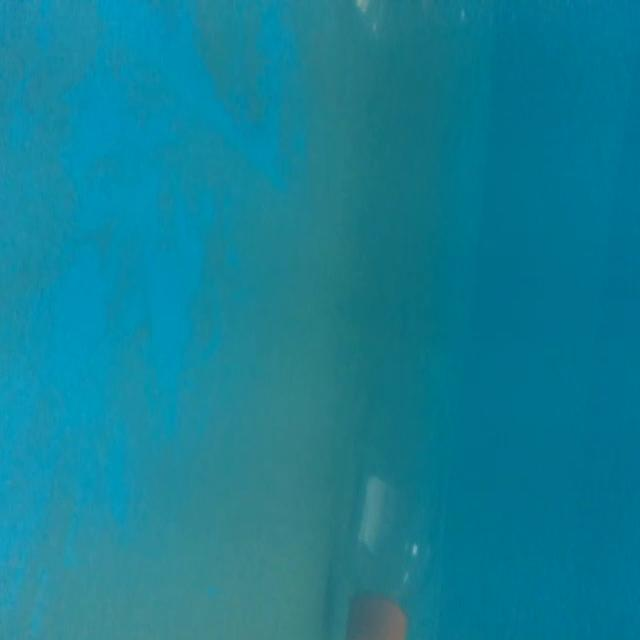plastic bottle: (331, 288, 491, 640)
